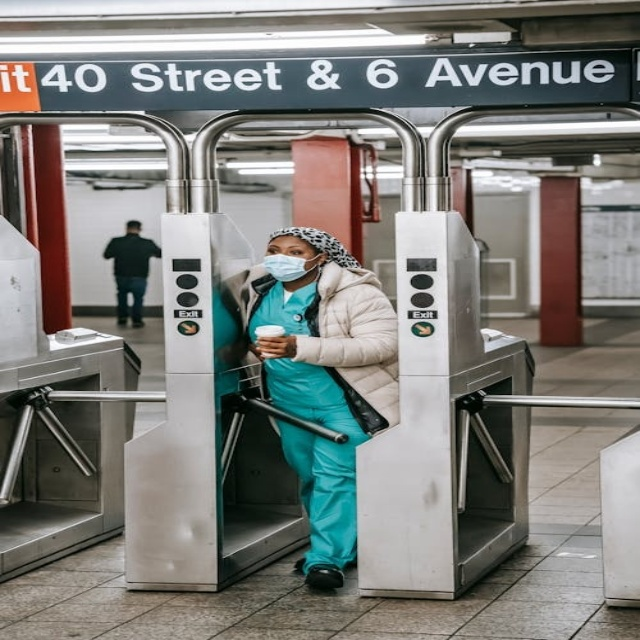Mascara: (262, 253, 317, 282)
Sin_gafas: (262, 241, 311, 256)
Sin_guantes: (253, 333, 295, 360)
